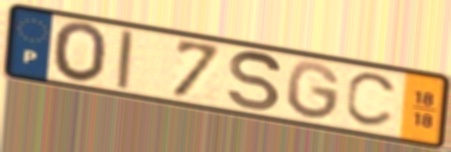7: (173, 37, 226, 102)
C: (343, 72, 401, 131)
G: (285, 59, 344, 124)
I: (114, 27, 136, 92)
O: (52, 20, 110, 85)
S: (226, 49, 285, 114)
